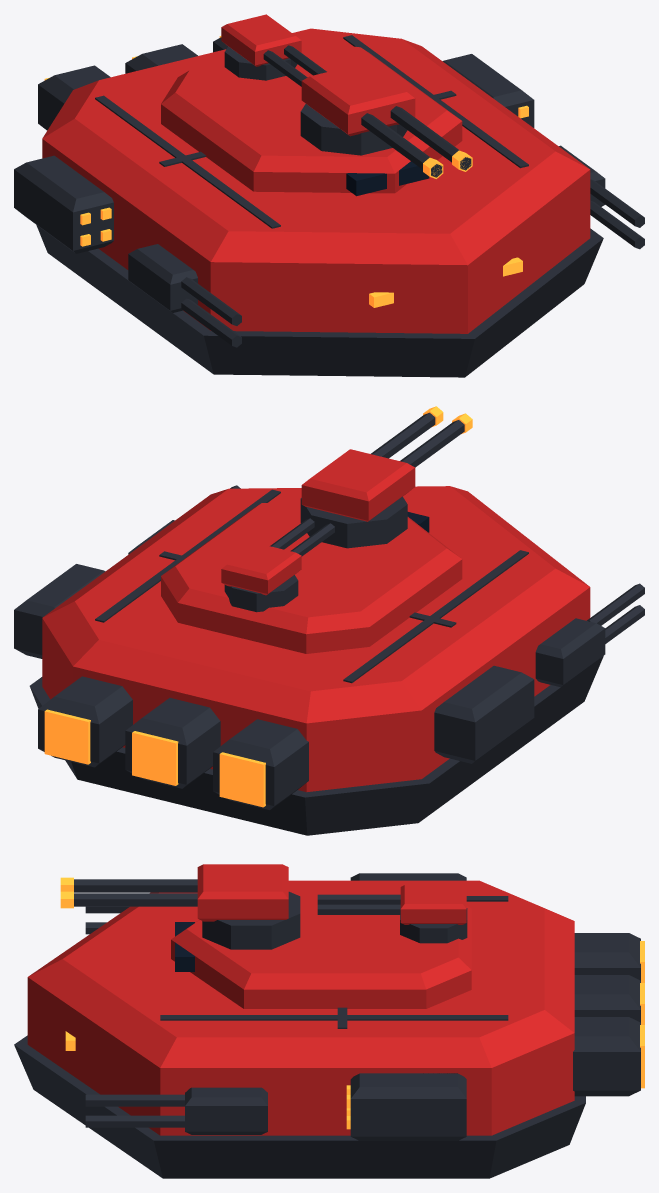
The model's file is enemy_gunship.glb.
3 views of the same model, one above another, from view 1: azimuth 30°, elevation 25°; view 2: azimuth 150°, elevation 25°; view 3: azimuth 270°, elevation 25° (orthographic).
Visible parts, largest first — view 1: enemy_gunship; view 2: enemy_gunship; view 3: enemy_gunship.
Part boxes in pixels (x1,y1,x2,y2): enemy_gunship: [14, 14, 644, 377]; enemy_gunship: [14, 406, 644, 835]; enemy_gunship: [14, 864, 644, 1178].
Bounding box in the file's own units: 1.16 × 0.5185 × 1.4.
